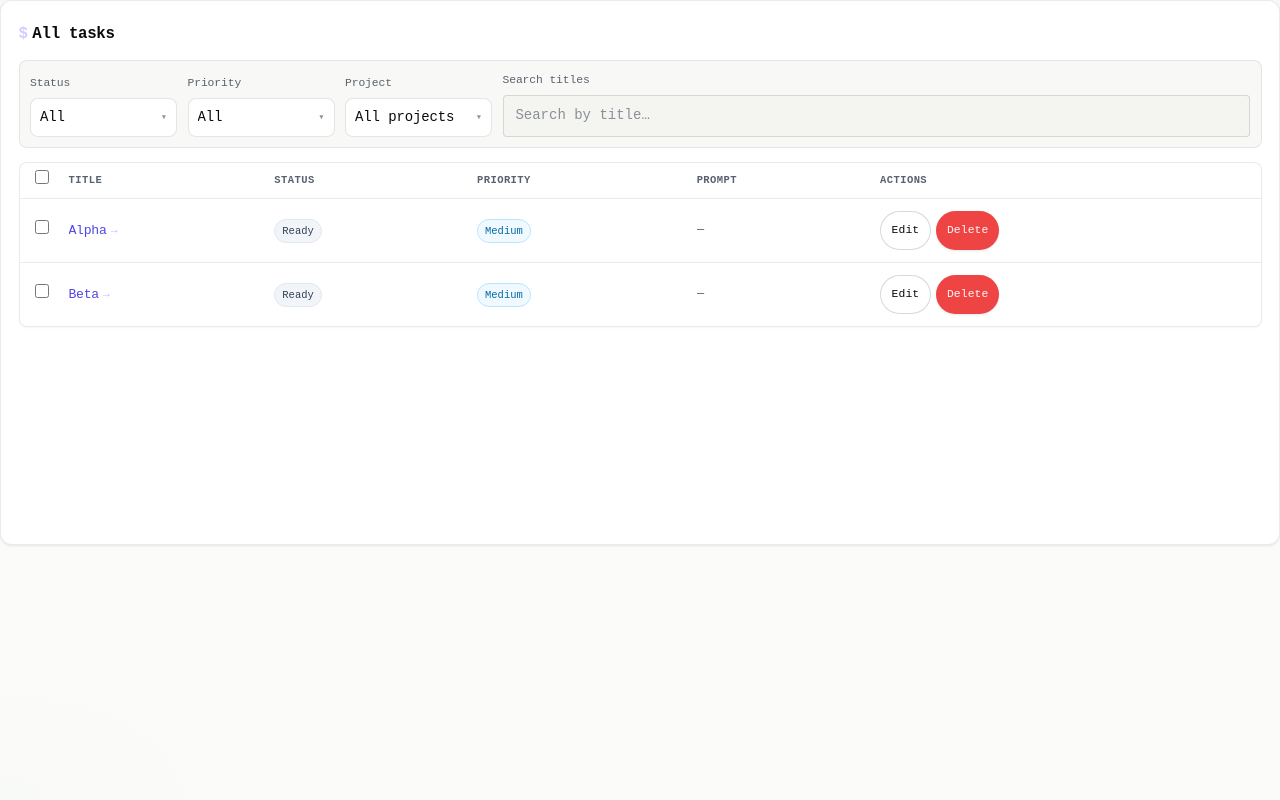
Test case: TaskListSection › bulk reschedule › Cancel clears the running selection without firing PATCHes
Click the checkbox with test id "task-list-select-all" at (42, 177), box top-left (35, 170), bottom-right (49, 184)
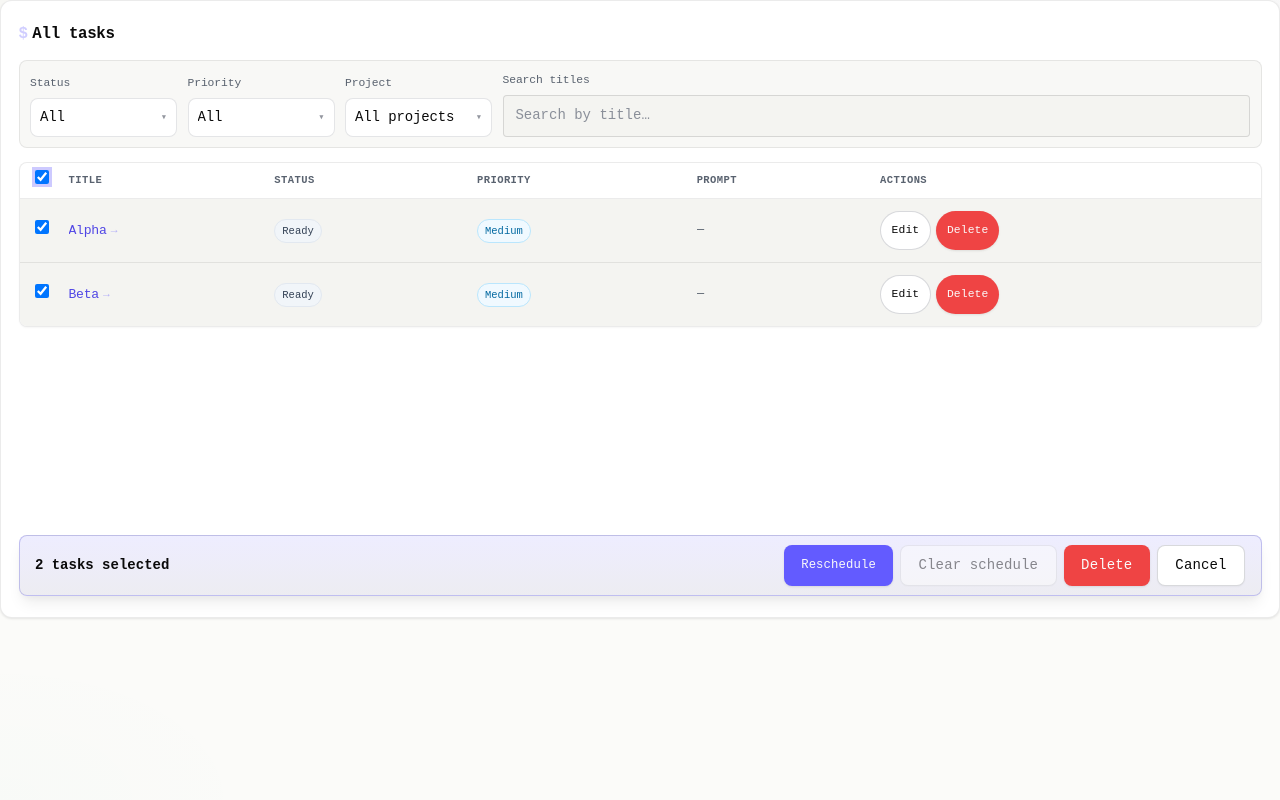
Click the button with test id "task-list-bulk-bar-cancel" at (1201, 566), box top-left (1157, 545), bottom-right (1245, 586)
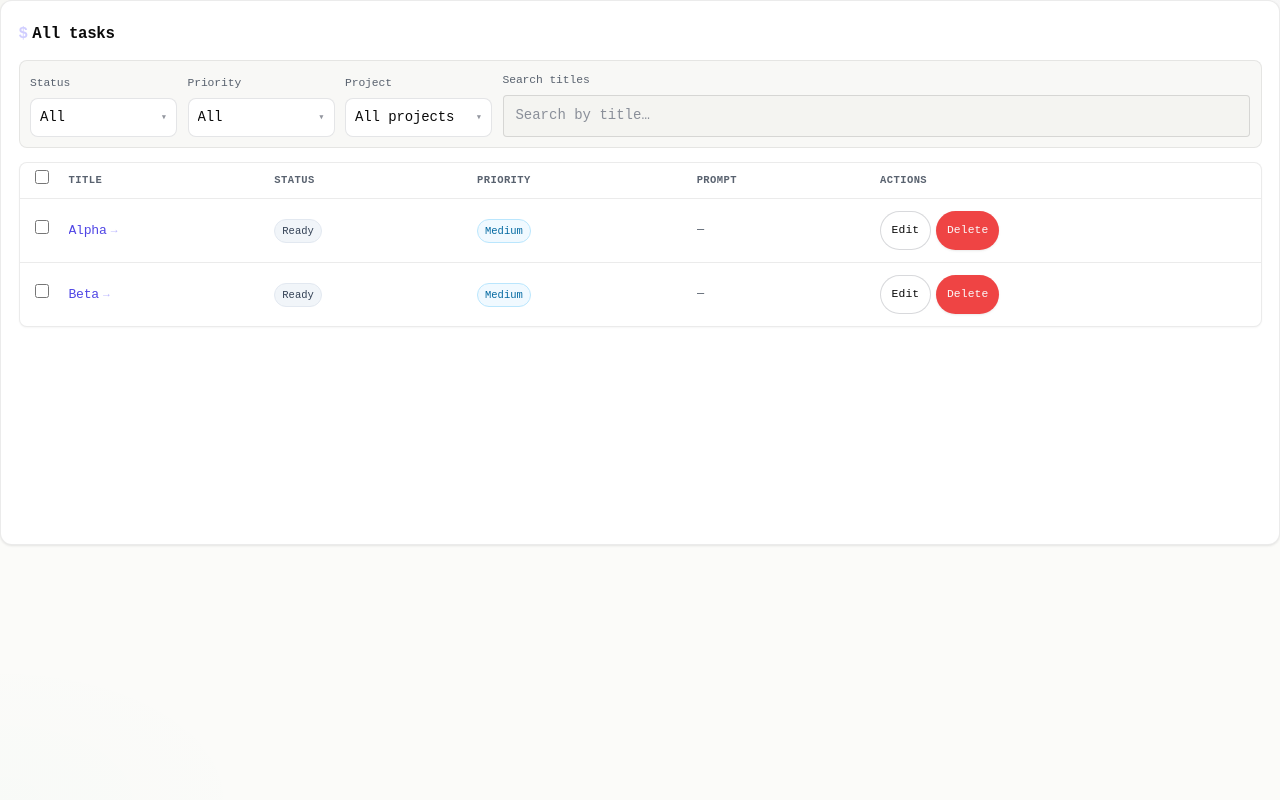
Expected: the element with test id "task-list-bulk-bar" is gone
